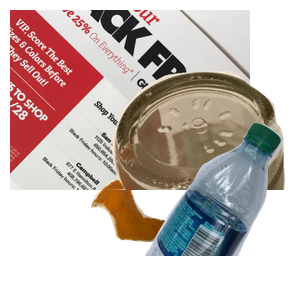glass: (89, 69, 300, 249)
paper: (10, 10, 250, 190)
plastic: (142, 120, 300, 300)
trash: (88, 177, 251, 300)
